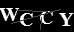C: (38, 10, 54, 25), (18, 12, 34, 26)
W: (1, 7, 19, 22)
Y: (58, 12, 74, 26)
